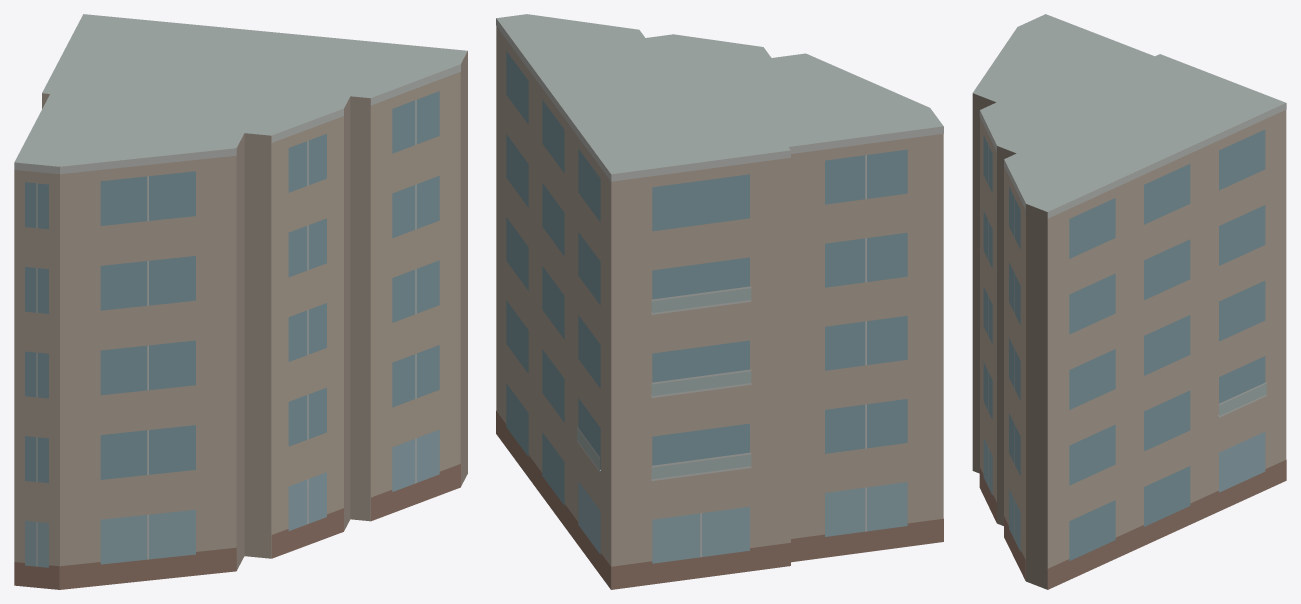
File: survey-upis-32660401.glb
3 views of the same model, side by side, from view 1: azimuth 30°, elevation 25°; view 2: azimuth 150°, elevation 25°; view 3: azimuth 270°, elevation 25° (orthographic). The views are drawn at different scales.
Parts seen in each view (by area): view 1: survey-upis-32660401.tmp; view 2: survey-upis-32660401.tmp; view 3: survey-upis-32660401.tmp.
Boxes of the visible parts, left/top/right/bottom form: survey-upis-32660401.tmp: left=14, top=14, right=467, bottom=589; survey-upis-32660401.tmp: left=496, top=14, right=943, bottom=589; survey-upis-32660401.tmp: left=972, top=14, right=1286, bottom=589.
Bounding box in the file's own units: 15.58 × 13.85 × 10.44.
